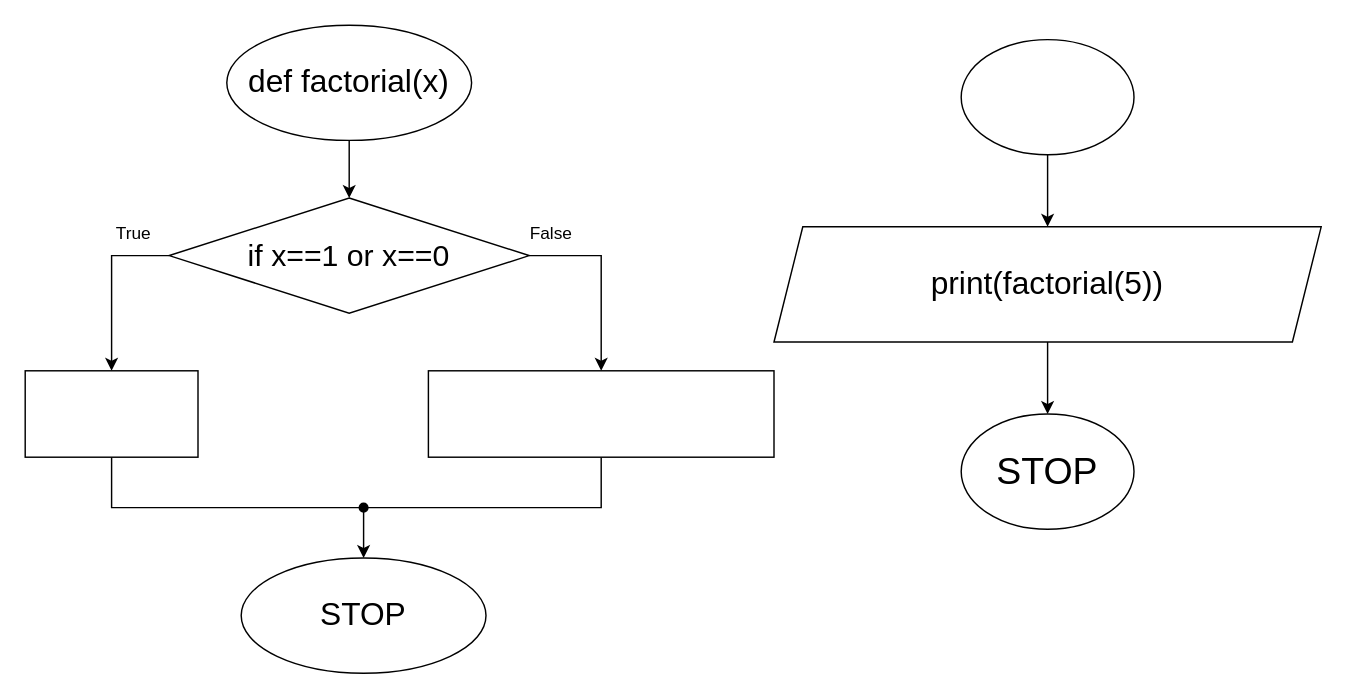
The diagram is 1346 pixels wide and 698 high, and some of its shapes have lost their labels. The centre of each missing label's shape, as x and y in pixels:
"return 1" belongs at point (111, 413).
"return factorial(x-1)*x" belongs at point (600, 413).
"START" belongs at point (1047, 96).
